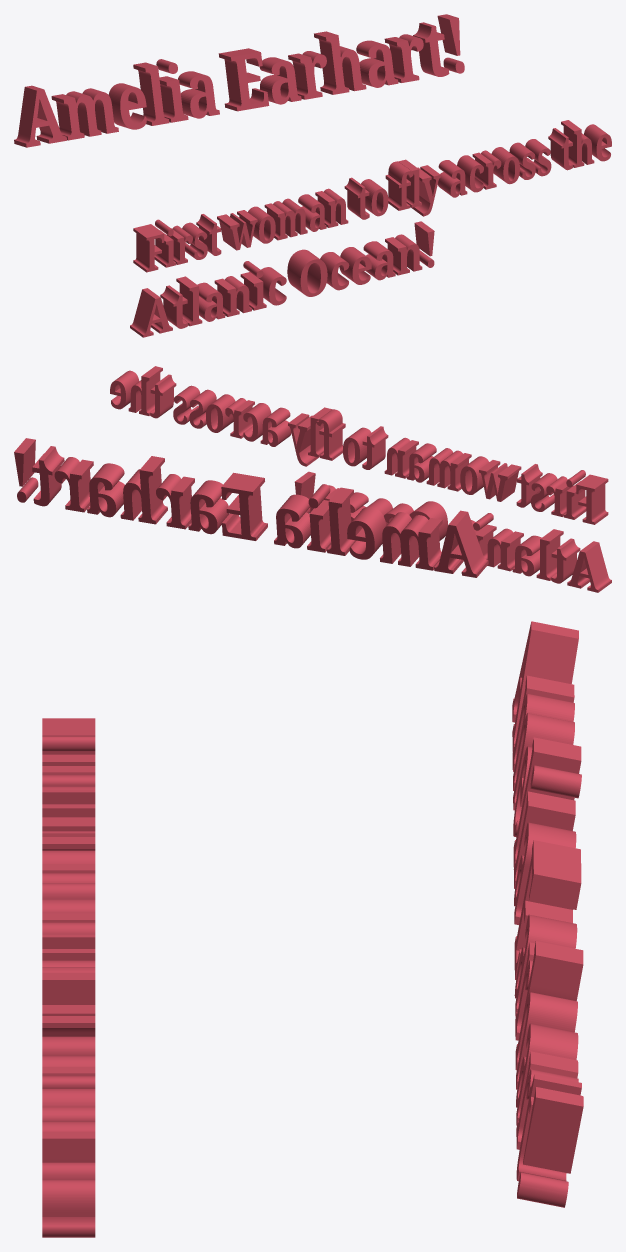
Rendered from Amelia Earhart.glb.
The picture shows the model from 3 angles, top to bottom: view 1: azimuth 30°, elevation 25°; view 2: azimuth 150°, elevation 25°; view 3: azimuth 270°, elevation 25°; orthographic projection. The views are drawn at different scales.
Parts seen in each view (by area): view 1: Mesh_Mesh_head_geo.001_lambert2SG.001; view 2: Mesh_Mesh_head_geo.001_lambert2SG.001; view 3: Mesh_Mesh_head_geo.001_lambert2SG.001.
Part boxes in pixels (x1,y1,x2,y2): Mesh_Mesh_head_geo.001_lambert2SG.001: (14,14,611,337); Mesh_Mesh_head_geo.001_lambert2SG.001: (14,366,611,592); Mesh_Mesh_head_geo.001_lambert2SG.001: (42,621,583,1237).
Size of the model in its own units: 184 by 57.9 by 92.09.
